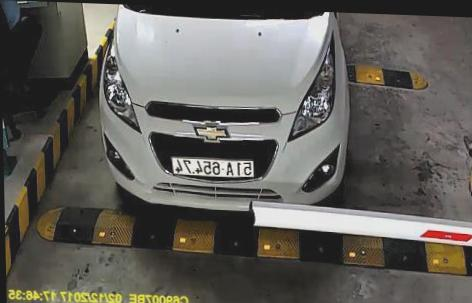License_Plate: (171, 155, 254, 179)
